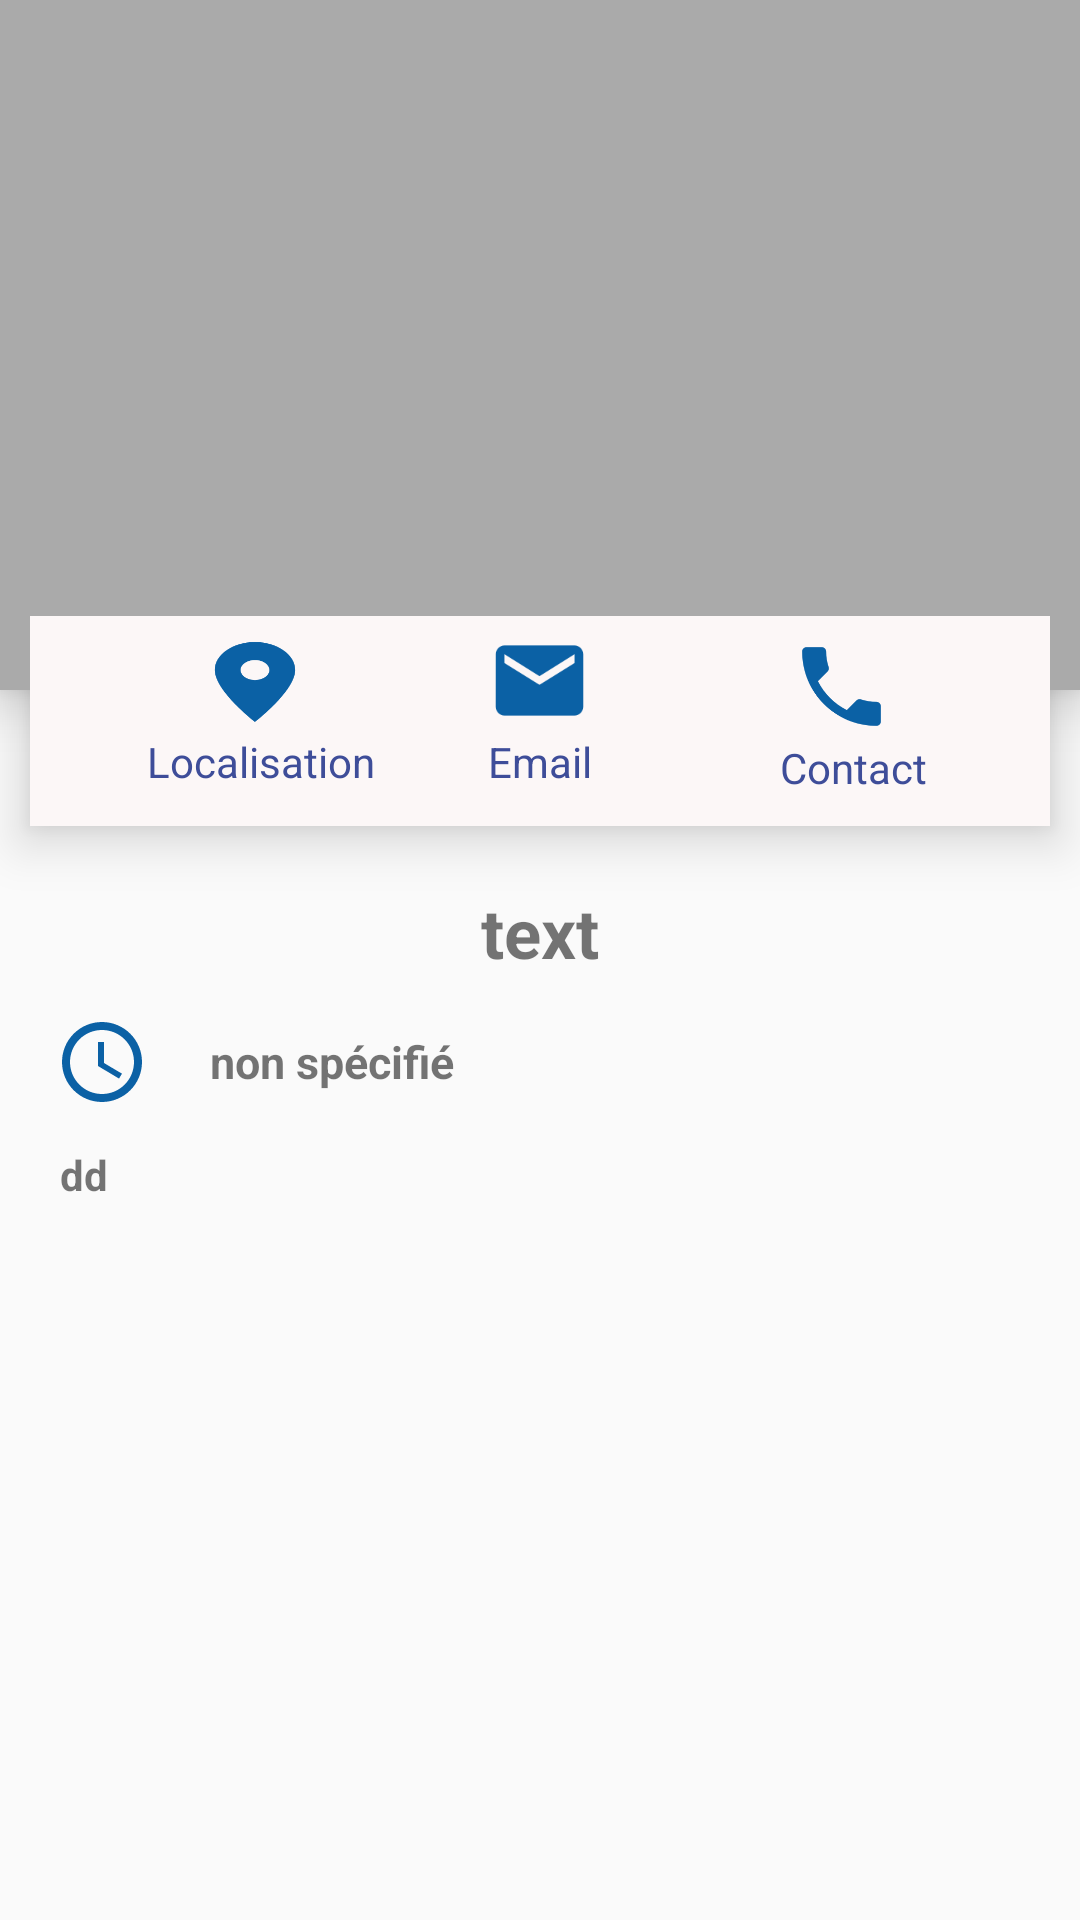

Screen size 1080px x 1920px. Icon name, then its box in pixels as (x1, y1, x2, y2):
access time: (62, 1022, 142, 1102)
local phone: (802, 647, 881, 726)
